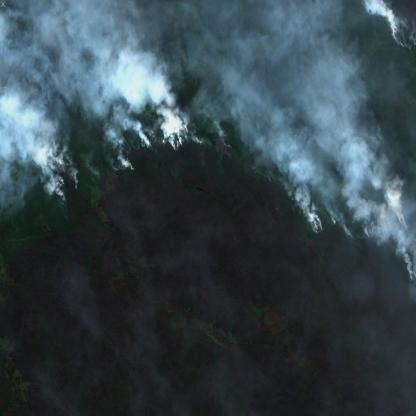fire: (42, 113, 209, 209), (290, 183, 416, 288), (385, 0, 416, 50)
